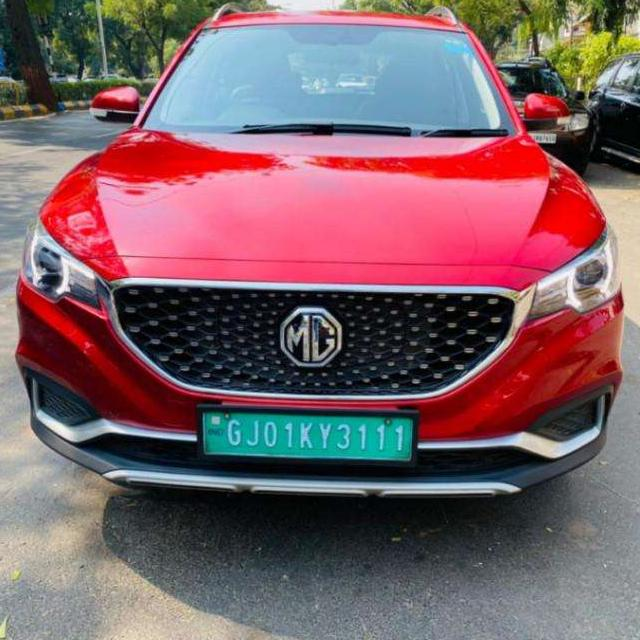Indian_Number_Plate: (201, 409, 419, 464)
